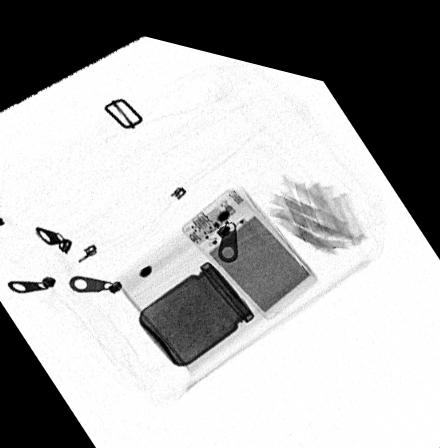Powerbank: (181, 174, 322, 307)
